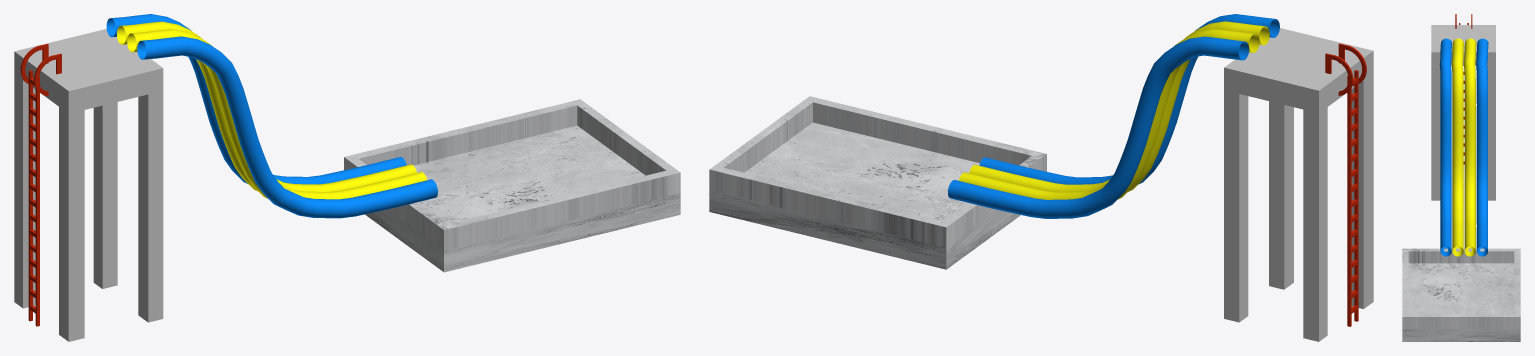
Rendered from water_slide.obj.
3 views of the same model, side by side, from view 1: azimuth 30°, elevation 25°; view 2: azimuth 150°, elevation 25°; view 3: azimuth 270°, elevation 25° (orthographic). The views are drawn at different scales.
Parts seen in each view (by area): view 1: stage.003_Cube.007, stage.001_Cube.006, Circle, stage.002_Cube.003, Circle.002, Circle.001, Circle.003; view 2: stage.003_Cube.007, stage.001_Cube.006, Circle.003, stage.002_Cube.003, Circle.002, Circle.001, Circle; view 3: stage.003_Cube.007, stage.001_Cube.006, Circle.002, Circle.001, Circle, Circle.003, stage.002_Cube.003.
Part boxes in pixels (box(x1,y1,x2,y2)): stage.003_Cube.007: box(344, 99, 680, 272); stage.001_Cube.006: box(14, 29, 163, 341); Circle: box(137, 36, 437, 218); stage.002_Cube.003: box(20, 44, 61, 326); Circle.002: box(117, 21, 416, 191); Circle.001: box(127, 29, 427, 199); Circle.003: box(106, 14, 406, 184); stage.003_Cube.007: box(709, 96, 1046, 269); stage.001_Cube.006: box(1224, 28, 1373, 341); Circle.003: box(948, 36, 1248, 218); stage.002_Cube.003: box(1325, 43, 1366, 326); Circle.002: box(958, 29, 1259, 199); Circle.001: box(969, 21, 1269, 192); Circle: box(979, 14, 1279, 184); stage.003_Cube.007: box(1402, 248, 1520, 341); stage.001_Cube.006: box(1431, 25, 1495, 200); Circle.002: box(1464, 38, 1476, 256); Circle.001: box(1451, 38, 1463, 256); Circle: box(1439, 38, 1451, 256); Circle.003: box(1476, 38, 1488, 256); stage.002_Cube.003: box(1455, 14, 1472, 164).
Size of the model in its own units: 72.74 by 31.24 by 21.
